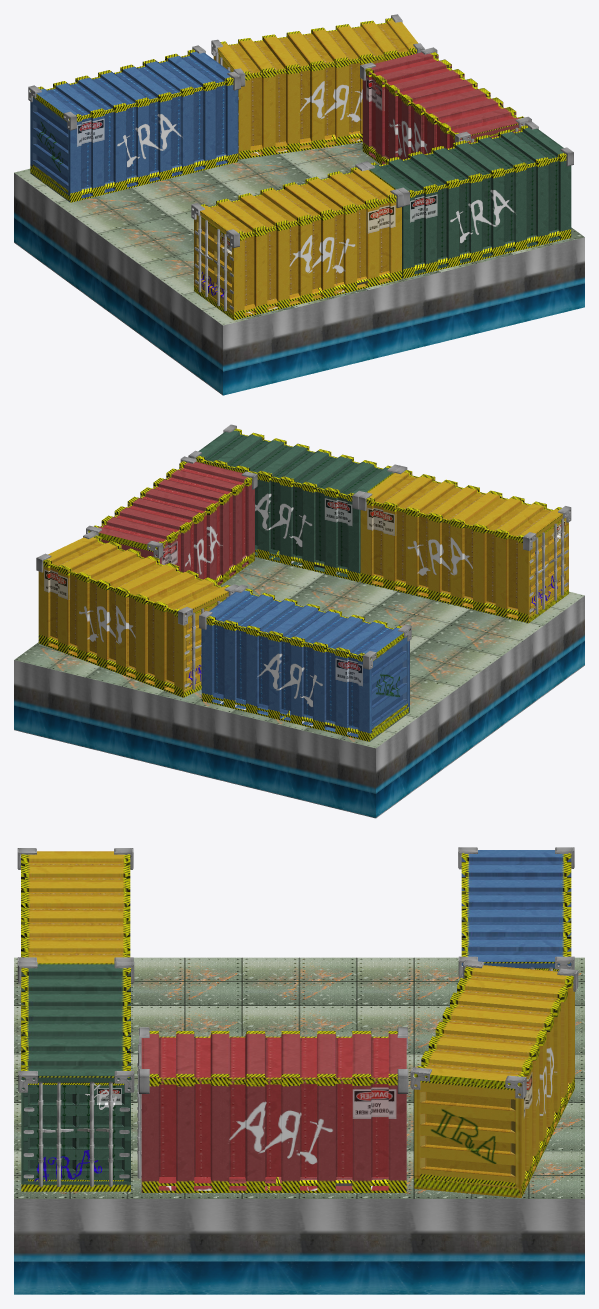
File: tile U shape Rev2(1).fbx
3 views of the same model, one above another, from view 1: azimuth 30°, elevation 25°; view 2: azimuth 150°, elevation 25°; view 3: azimuth 270°, elevation 25° (orthographic). The views are drawn at different scales.
Parts seen in each view (by area): view 1: Cube, Cube.003, Cube.001, Cube.002, Cube.004, Cube.005; view 2: Cube, Cube.001, Cube.003, Cube.004, Cube.002, Cube.005; view 3: Cube, Cube.005, Cube.004, Cube.002, Cube.003, Cube.001.
Part boxes in pixels (x1=…): Cube: x1=14, y1=142, x2=584, y2=395; Cube.003: x1=28, y1=45, x2=240, y2=202; Cube.001: x1=191, y1=163, x2=403, y2=320; Cube.002: x1=361, y1=121, x2=573, y2=278; Cube.004: x1=211, y1=14, x2=424, y2=159; Cube.005: x1=360, y1=47, x2=531, y2=164; Cube: x1=14, y1=557, x2=584, y2=818; Cube.001: x1=359, y1=466, x2=571, y2=623; Cube.003: x1=199, y1=584, x2=411, y2=741; Cube.004: x1=36, y1=531, x2=239, y2=697; Cube.002: x1=188, y1=424, x2=400, y2=581; Cube.005: x1=86, y1=456, x2=257, y2=585; Cube: x1=14, y1=957, x2=584, y2=1294; Cube.005: x1=137, y1=1027, x2=408, y2=1192; Cube.004: x1=410, y1=960, x2=578, y2=1197; Cube.002: x1=18, y1=961, x2=134, y2=1191; Cube.003: x1=458, y1=847, x2=574, y2=978; Cube.001: x1=17, y1=848, x2=133, y2=1070.
Bounding box in the file's own units: 20000 × 8250 × 20000.
